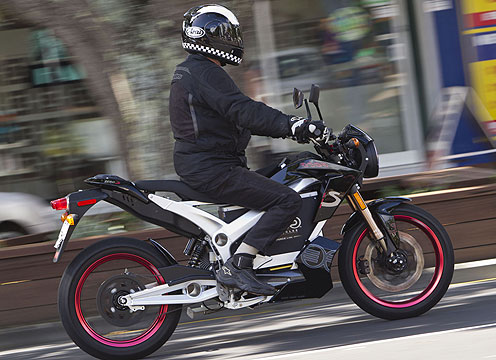motorcycle: (50, 85, 453, 360)
